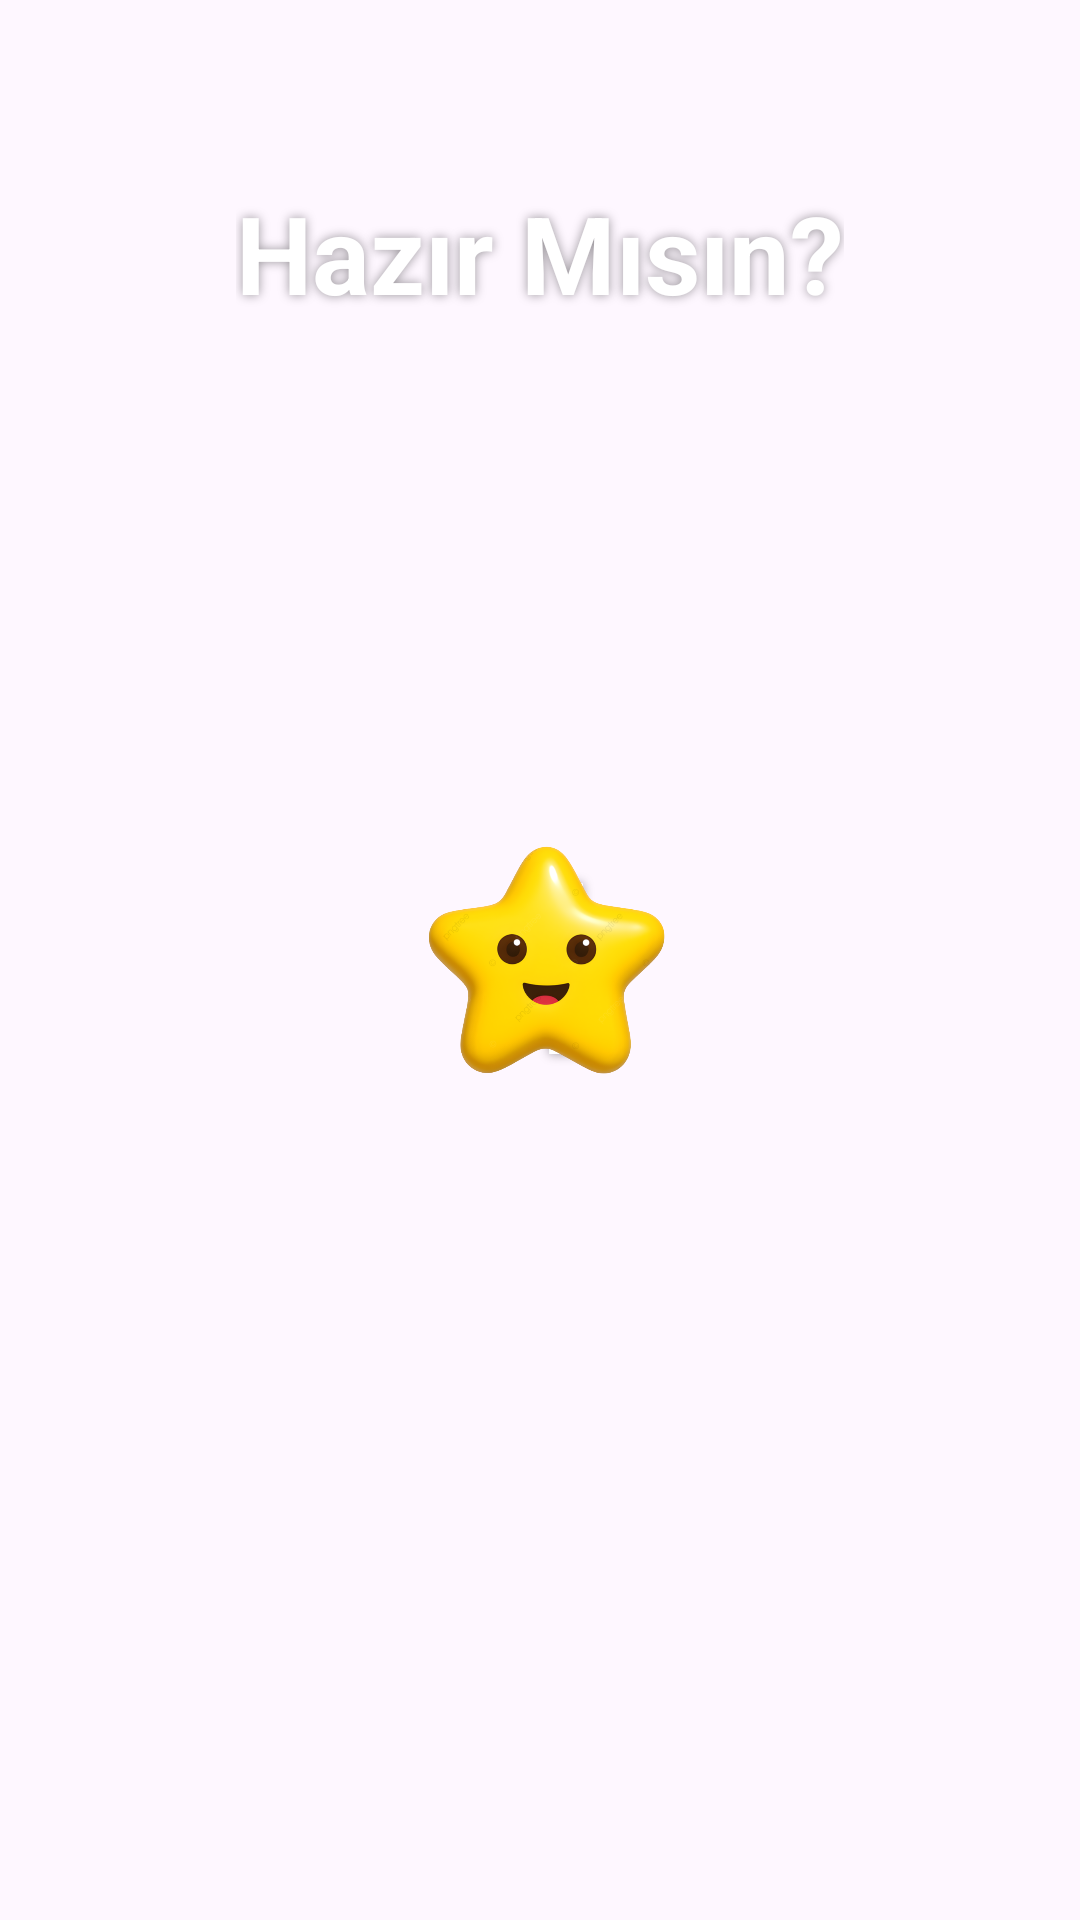

Icons on this 1080 × 1920 Android screen, each with its box as (x1, y1, x2, y2):
smiling star: (429, 847, 665, 1074)
